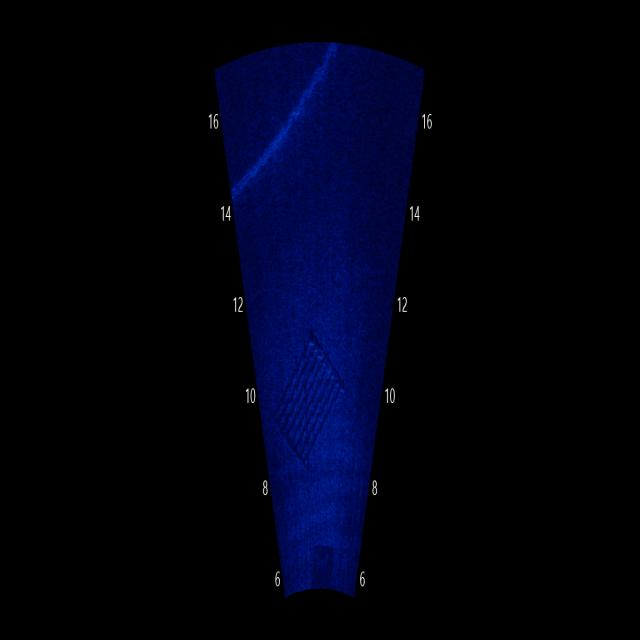square: (265, 332, 355, 474)
